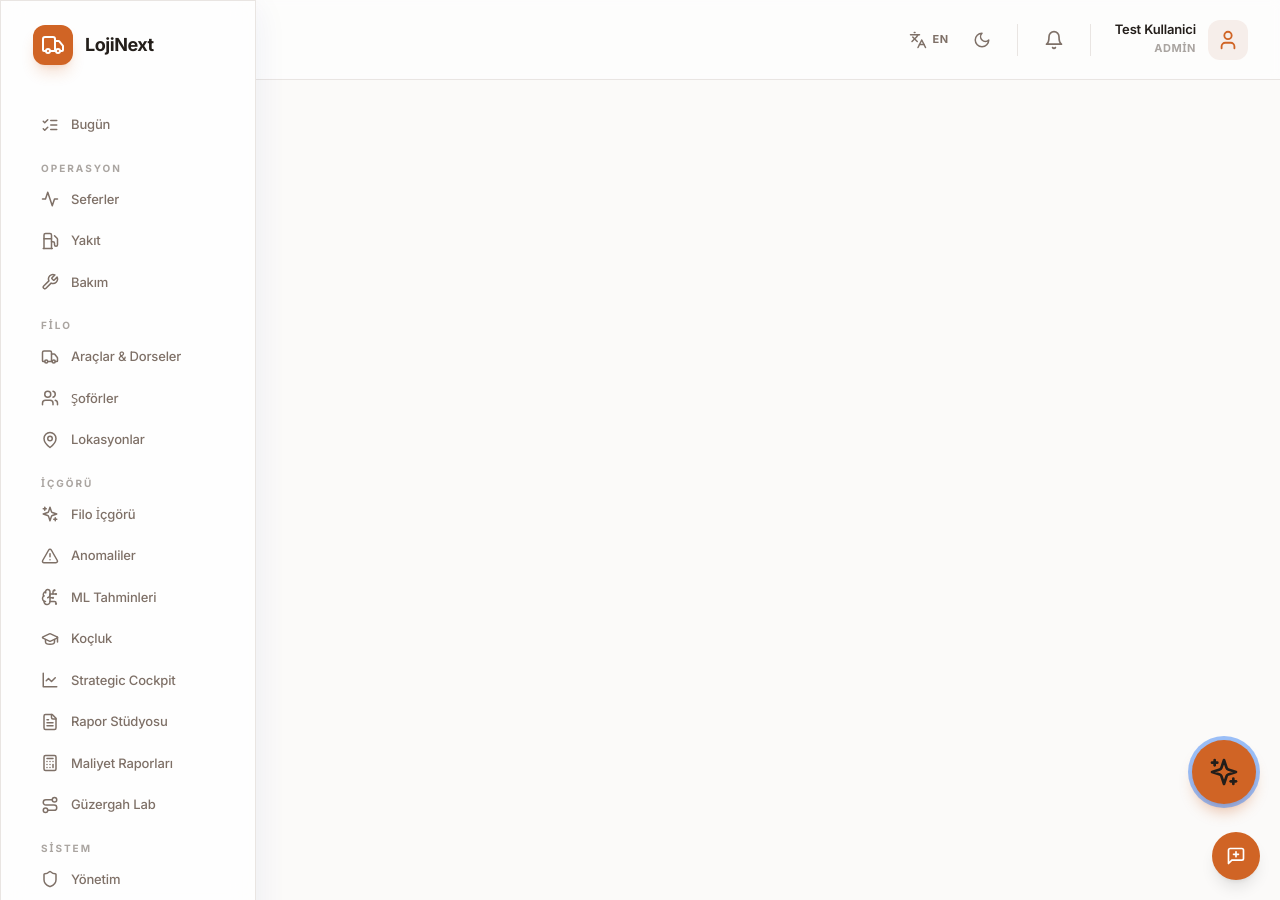
AppLayout › shows empty notification state when no notifications
Click the button named "Bildirimler". click: (1054, 40)
box: [1034, 20, 1074, 60]
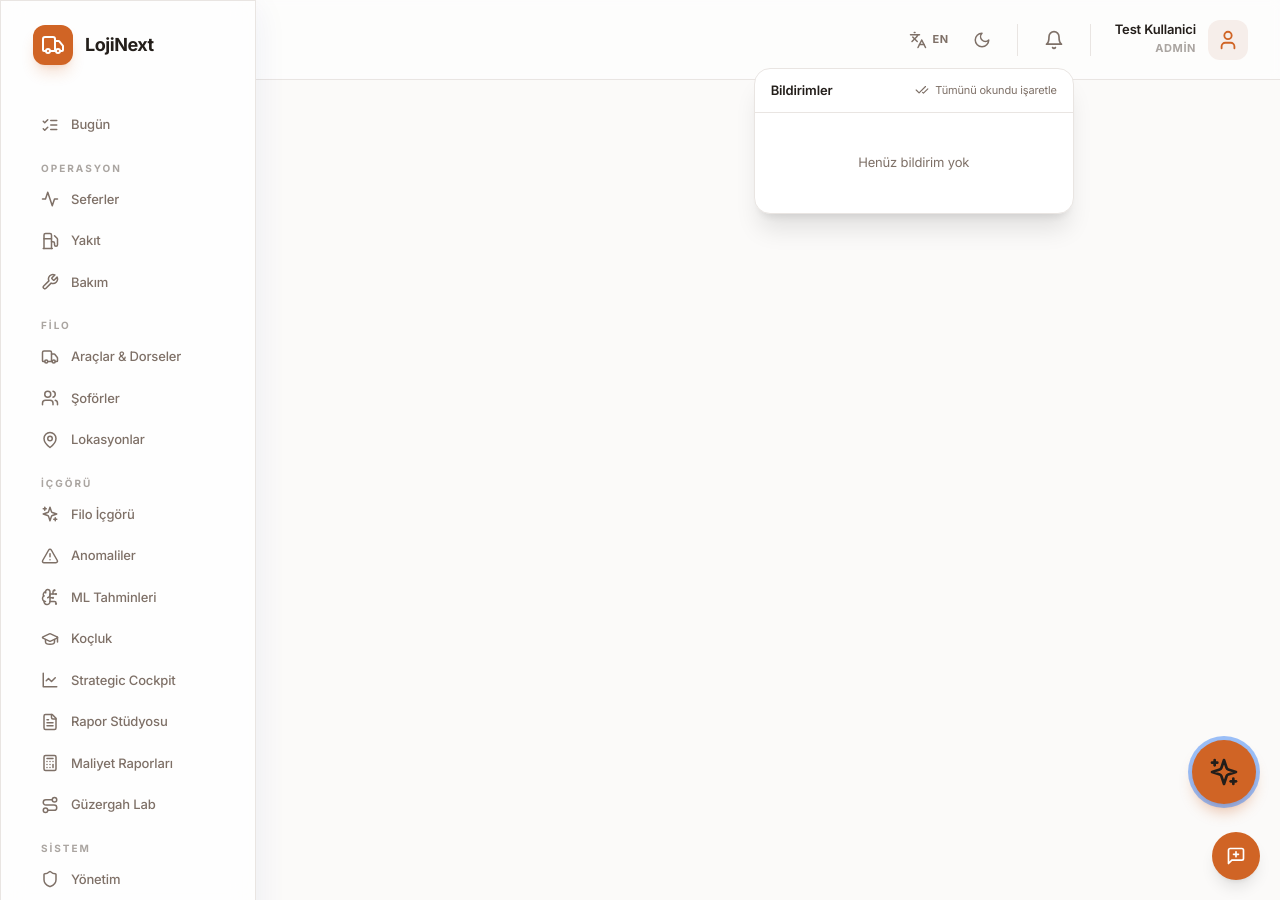
Result: the text "Henüz bildirim yok" is shown at [858, 154, 969, 170]
